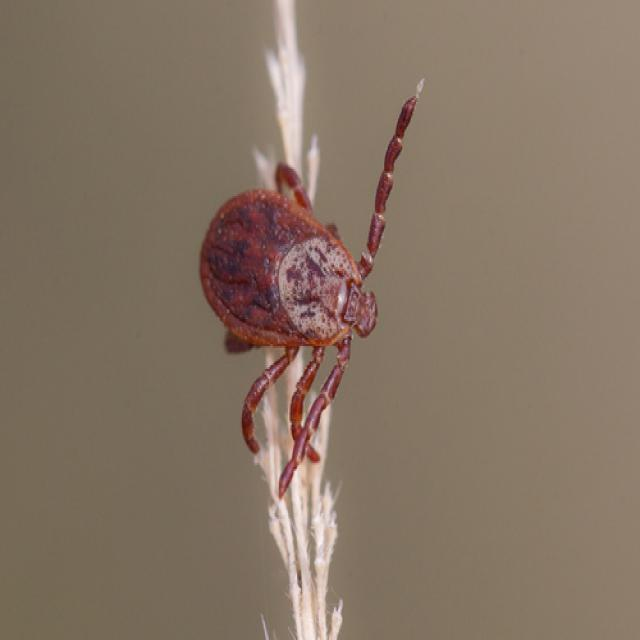Dermacentor Reticulatus-F: (200, 96, 416, 500)
